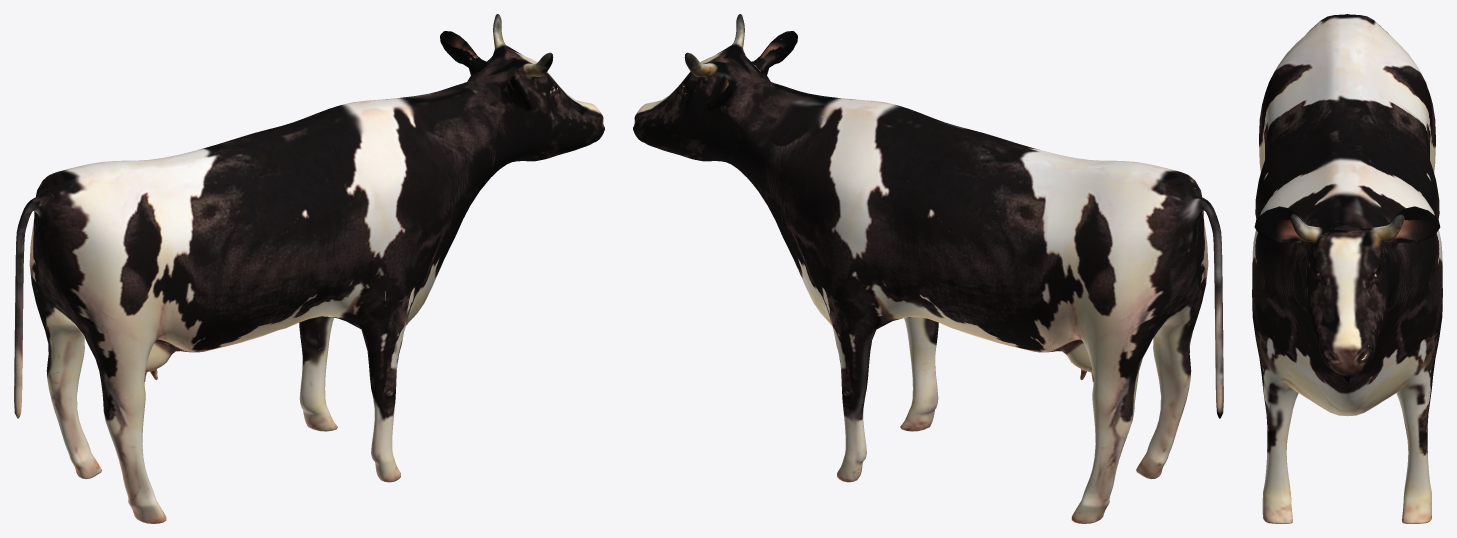
The model's file is my_cow_lp3.fbx.
3 renders of one model, left to right at view 1: azimuth 30°, elevation 25°; view 2: azimuth 150°, elevation 25°; view 3: azimuth 270°, elevation 25°, orthographic. The views are drawn at different scales.
Parts seen in each view (by area): view 1: Plane.006; view 2: Plane.006; view 3: Plane.006.
Part boxes in pixels (x1,y1,x2,y2): Plane.006: (14,14,604,523); Plane.006: (633,14,1223,523); Plane.006: (1252,14,1442,523).
Bounding box in the file's own units: 291 × 179 × 79.25.
